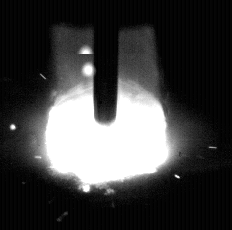arame: (95, 0, 118, 126)
poca: (45, 0, 167, 230)
